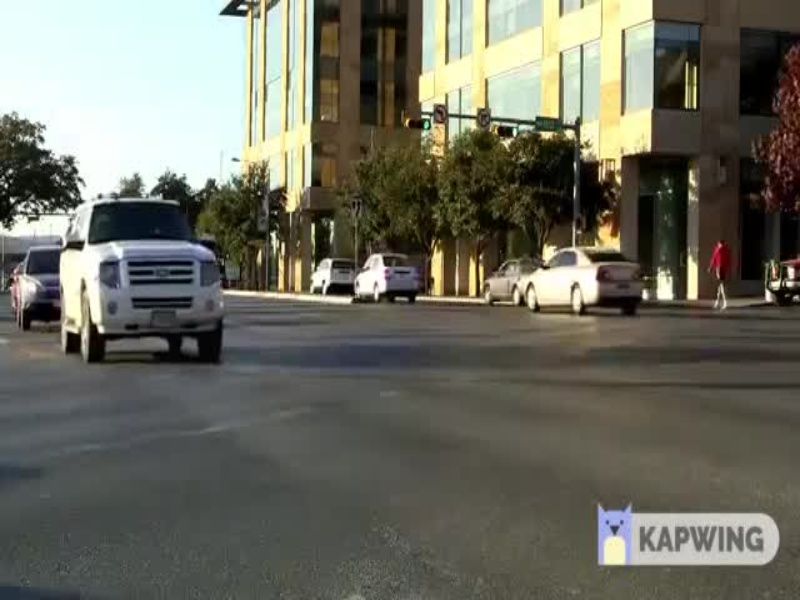car: (522, 242, 643, 325), (346, 255, 428, 305)
suv: (48, 189, 232, 374)
